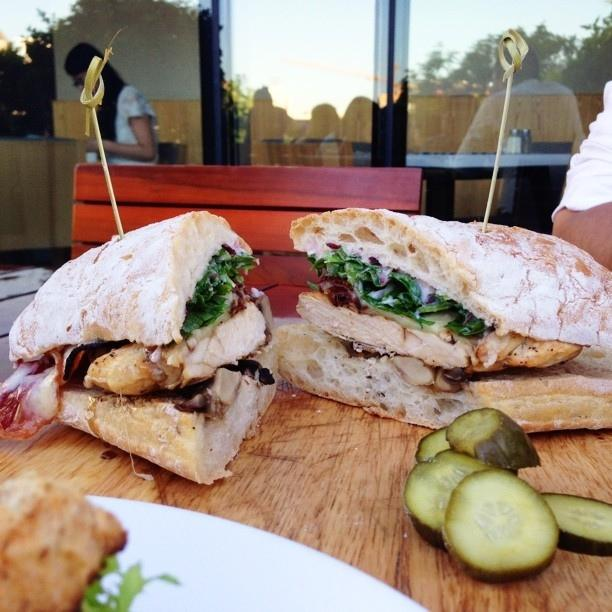lettuce: (180, 248, 260, 336), (80, 557, 182, 612), (361, 291, 435, 325), (356, 264, 393, 288), (344, 259, 365, 298), (363, 281, 378, 291)
